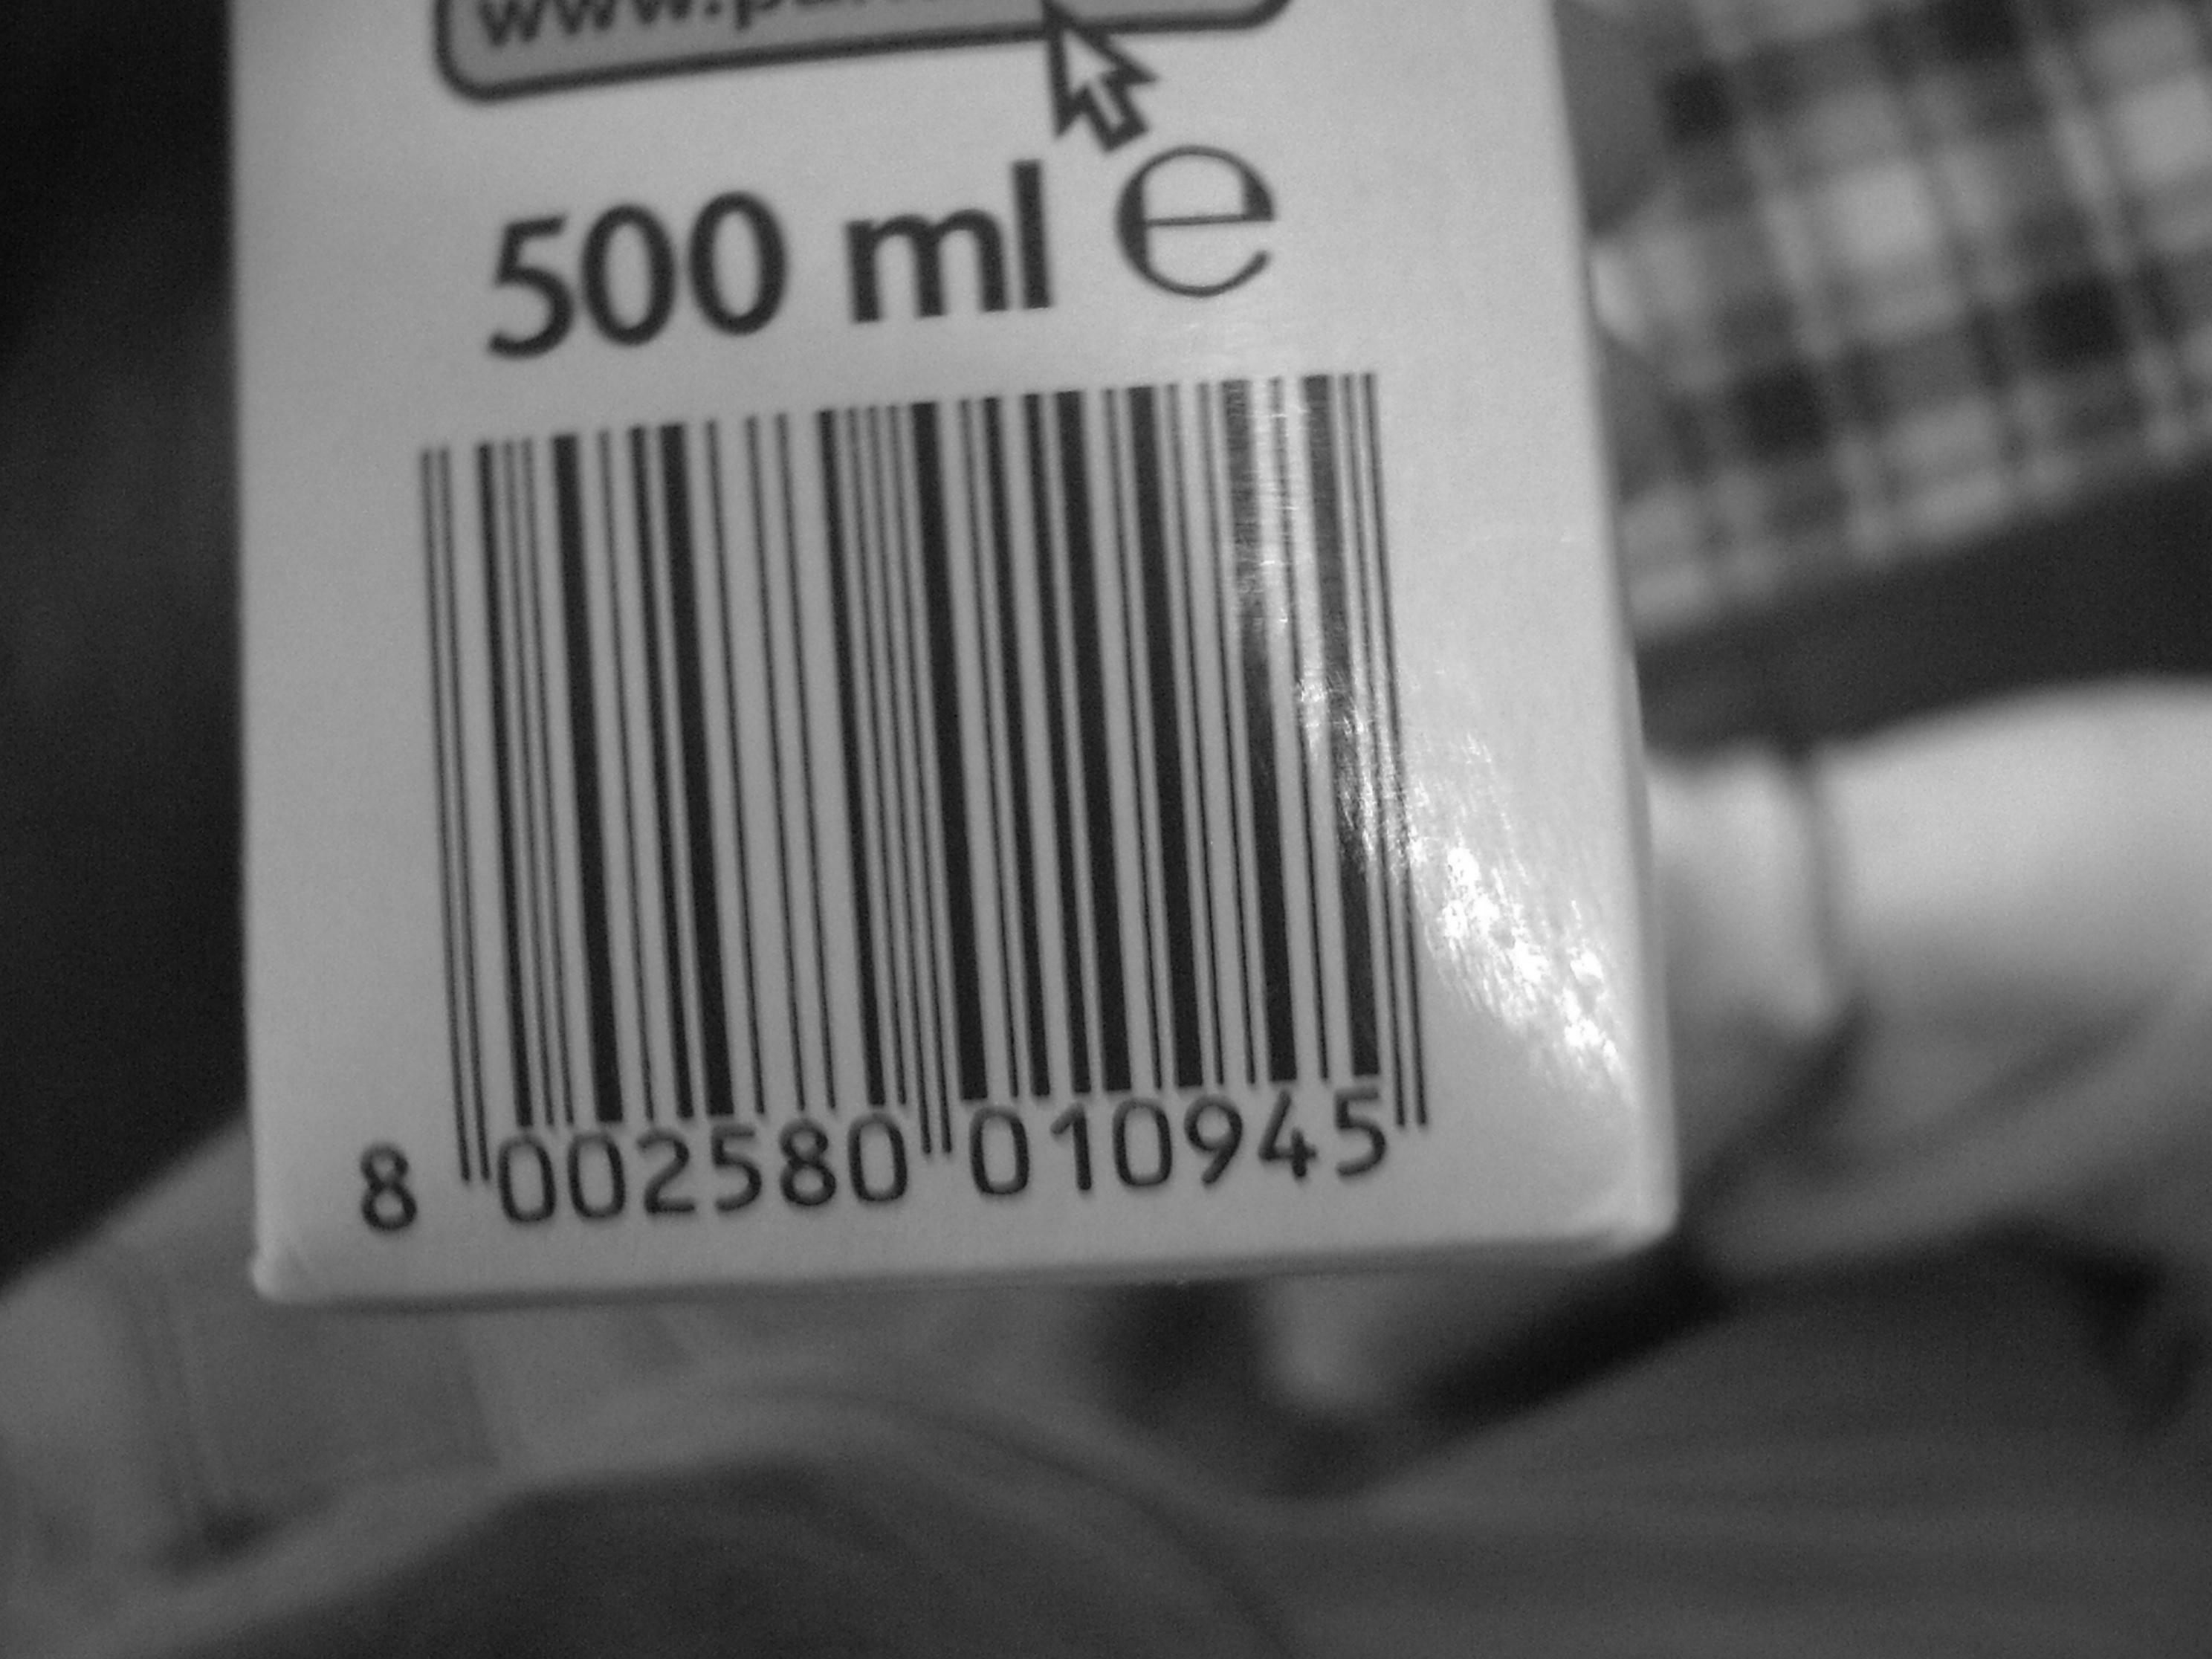Barcode: (371, 430, 1479, 1140)
